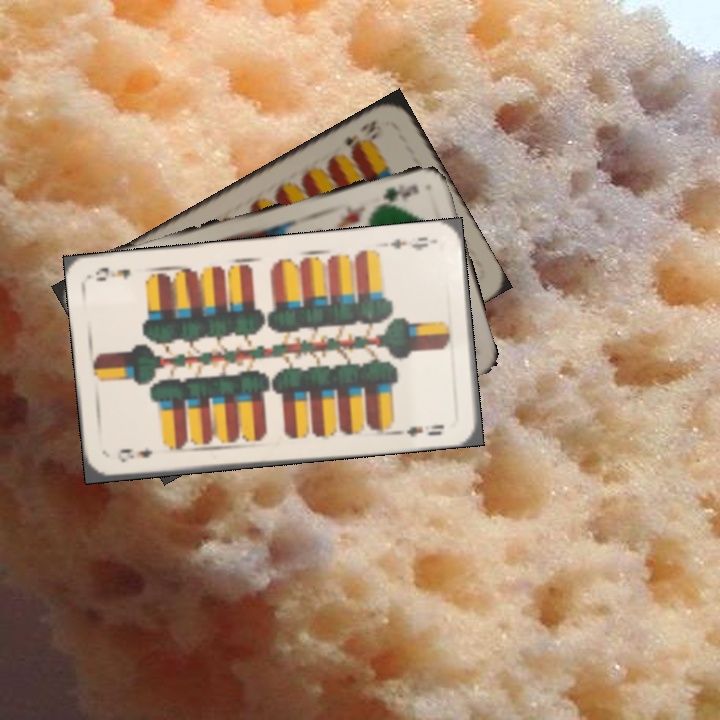E10: (341, 117, 385, 155)
E9: (386, 232, 438, 254), (115, 444, 156, 465)
GK: (367, 180, 421, 210)
